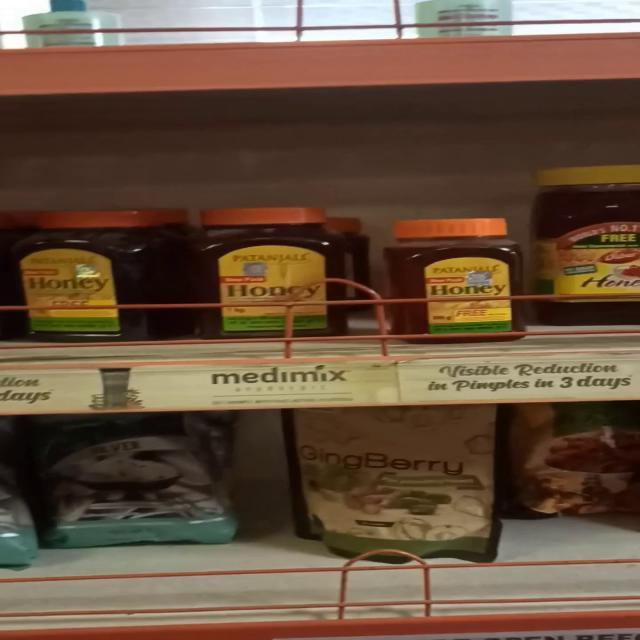Patanjali Honey: (12, 208, 152, 334), (204, 212, 344, 336), (394, 216, 524, 338)
